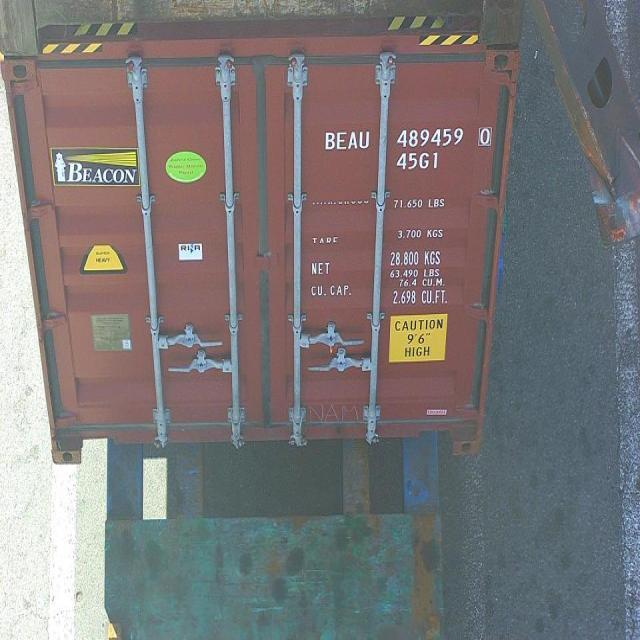ISO: (396, 152, 441, 172)
container_number: (320, 123, 500, 153)
